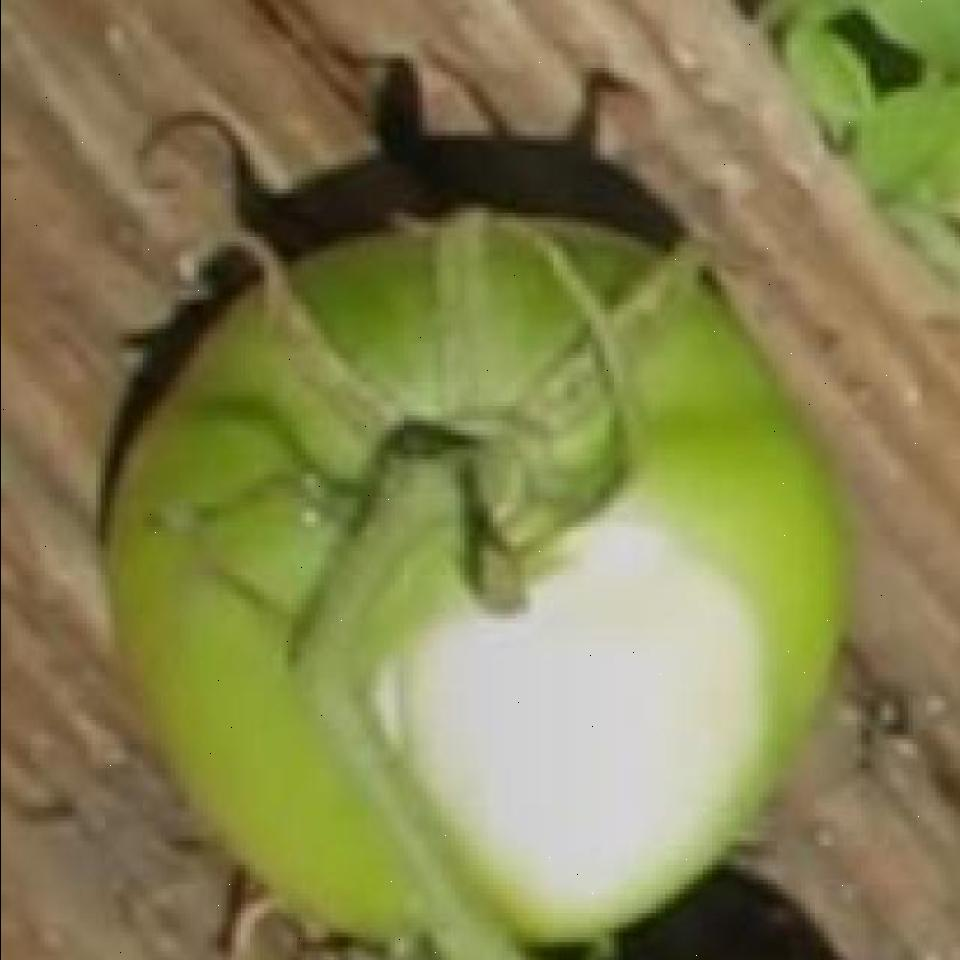Sunscald: (373, 507, 774, 913)
